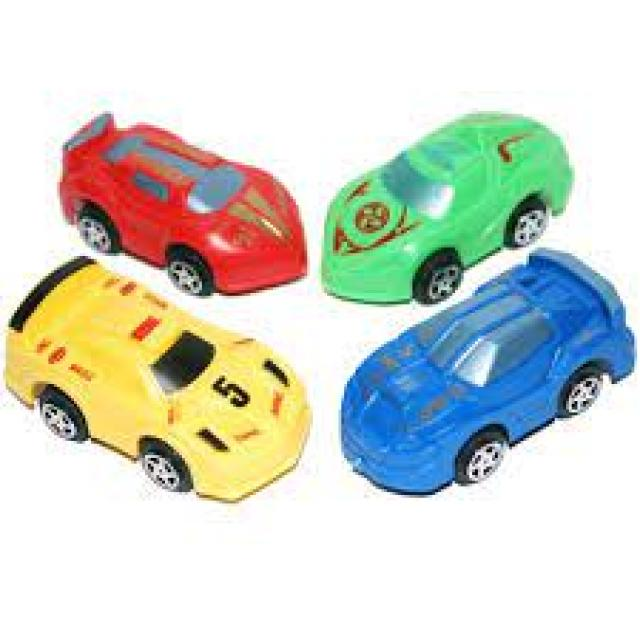Car: (6, 259, 307, 501), (341, 247, 634, 495), (321, 111, 572, 302), (63, 114, 304, 293)
